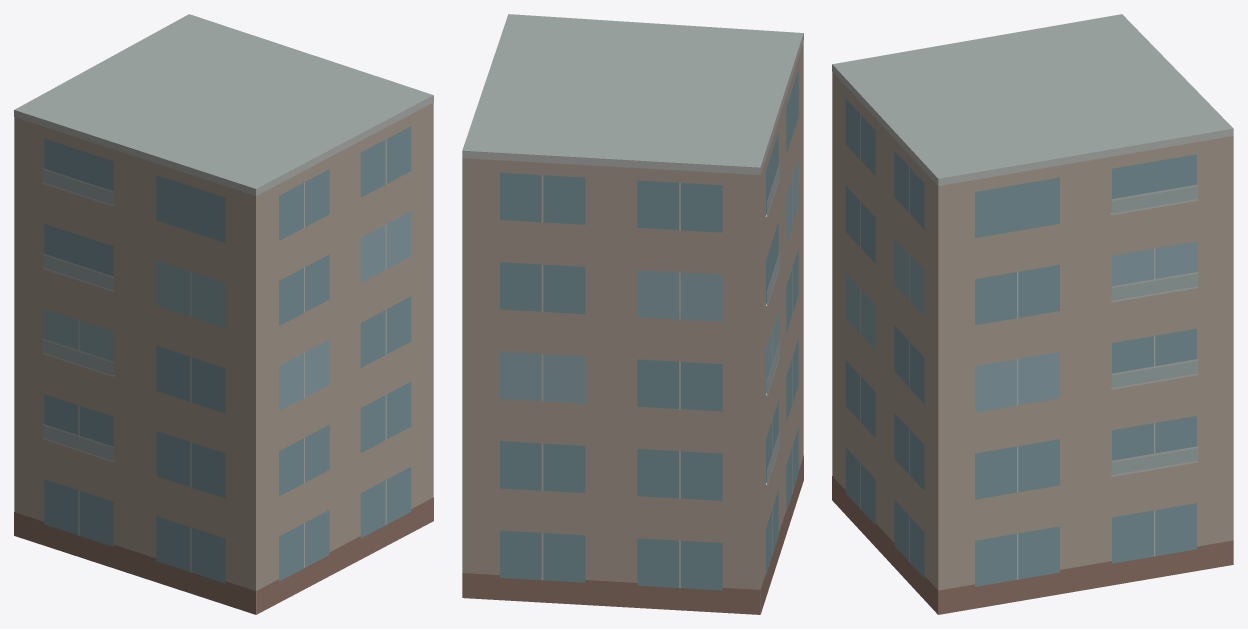
Rendered from survey-upis-32961906.glb.
3 views of the same model, side by side, from view 1: azimuth 30°, elevation 25°; view 2: azimuth 150°, elevation 25°; view 3: azimuth 270°, elevation 25° (orthographic). The views are drawn at different scales.
Visible parts, largest first — view 1: survey-upis-32961906.tmp; view 2: survey-upis-32961906.tmp; view 3: survey-upis-32961906.tmp.
Part boxes in pixels (box(x1,y1,x2,y2)): survey-upis-32961906.tmp: box(14, 14, 433, 614); survey-upis-32961906.tmp: box(462, 14, 803, 614); survey-upis-32961906.tmp: box(832, 14, 1233, 614).
Bounding box in the file's own units: 11.84 × 14.59 × 12.19.
